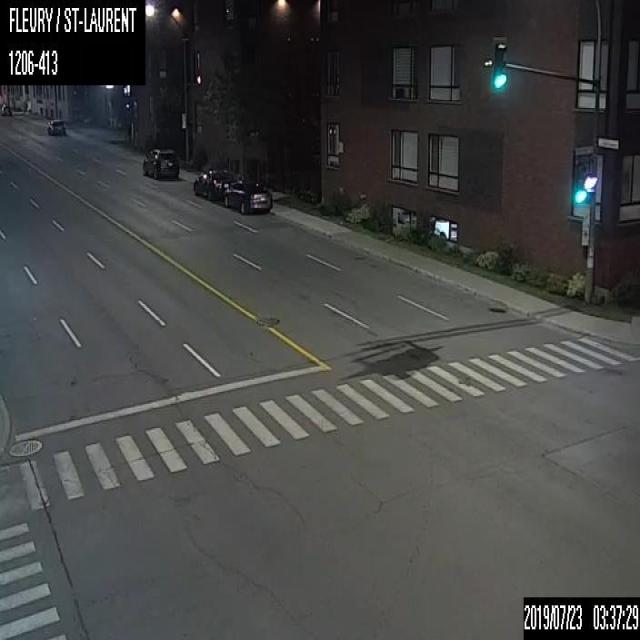vehicle: (192, 167, 235, 201), (224, 179, 272, 209), (143, 146, 178, 178), (48, 117, 66, 135), (1, 104, 11, 115)
